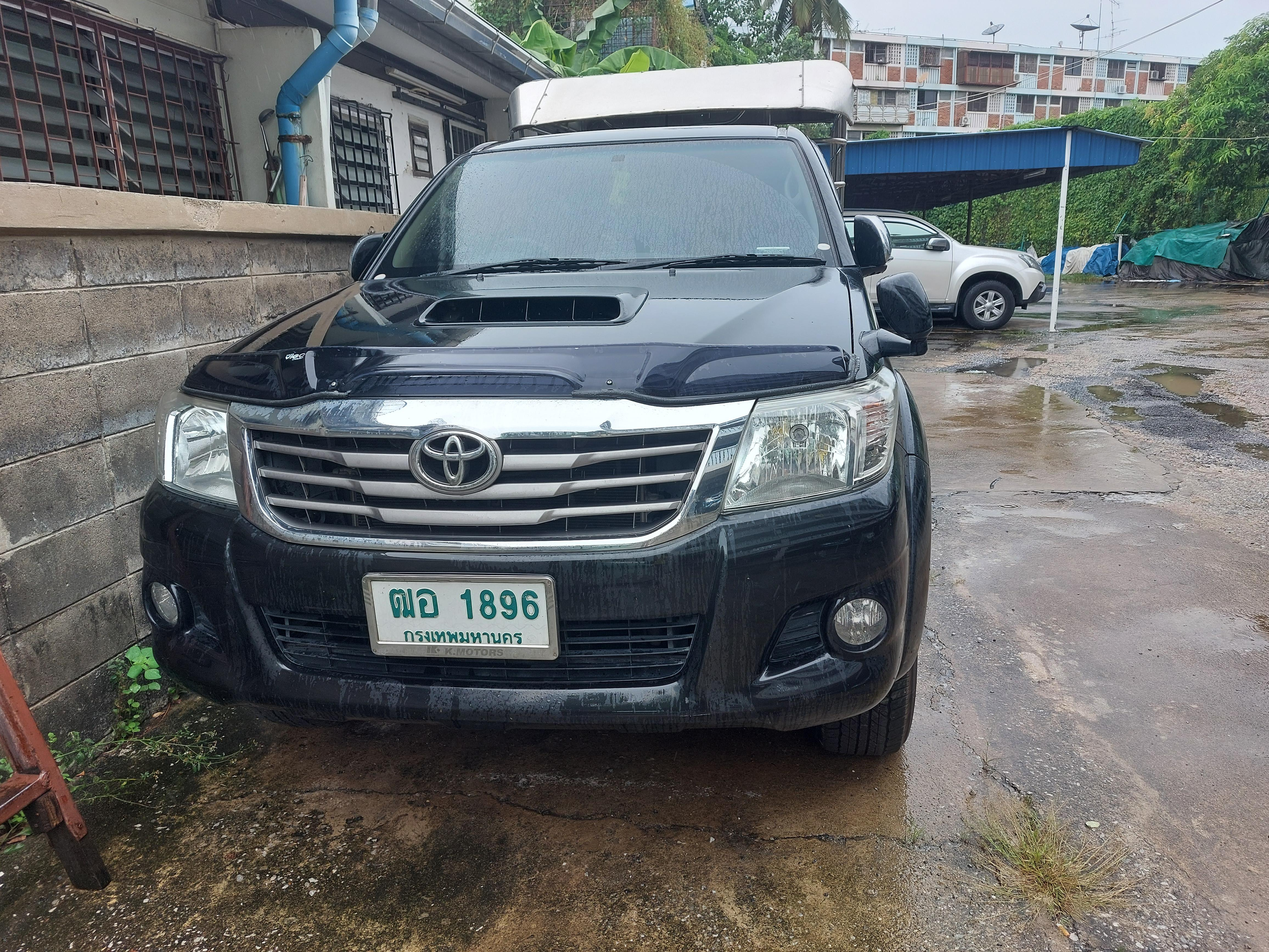license-plate: (361, 570, 560, 662)
